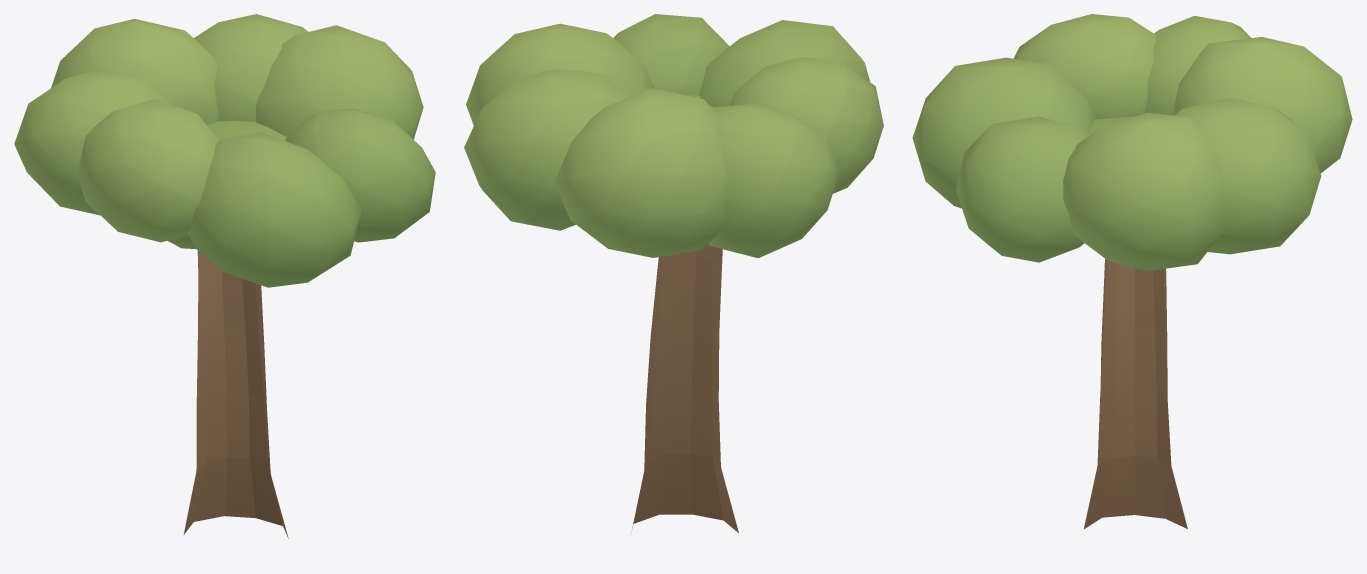
File: climbtree_4.glb
The picture shows the model from 3 angles, left to right: view 1: azimuth 30°, elevation 25°; view 2: azimuth 150°, elevation 25°; view 3: azimuth 270°, elevation 25°; orthographic projection. The views are drawn at different scales.
Parts seen in each view (by area): view 1: climbtree_4; view 2: climbtree_4; view 3: climbtree_4.
Part boxes in pixels (left/top/right/bottom): climbtree_4: left=14, top=14, right=435, bottom=538; climbtree_4: left=464, top=14, right=883, bottom=532; climbtree_4: left=912, top=14, right=1352, bottom=529.
Size of the model in its own units: 3.14 by 4.01 by 3.35.
